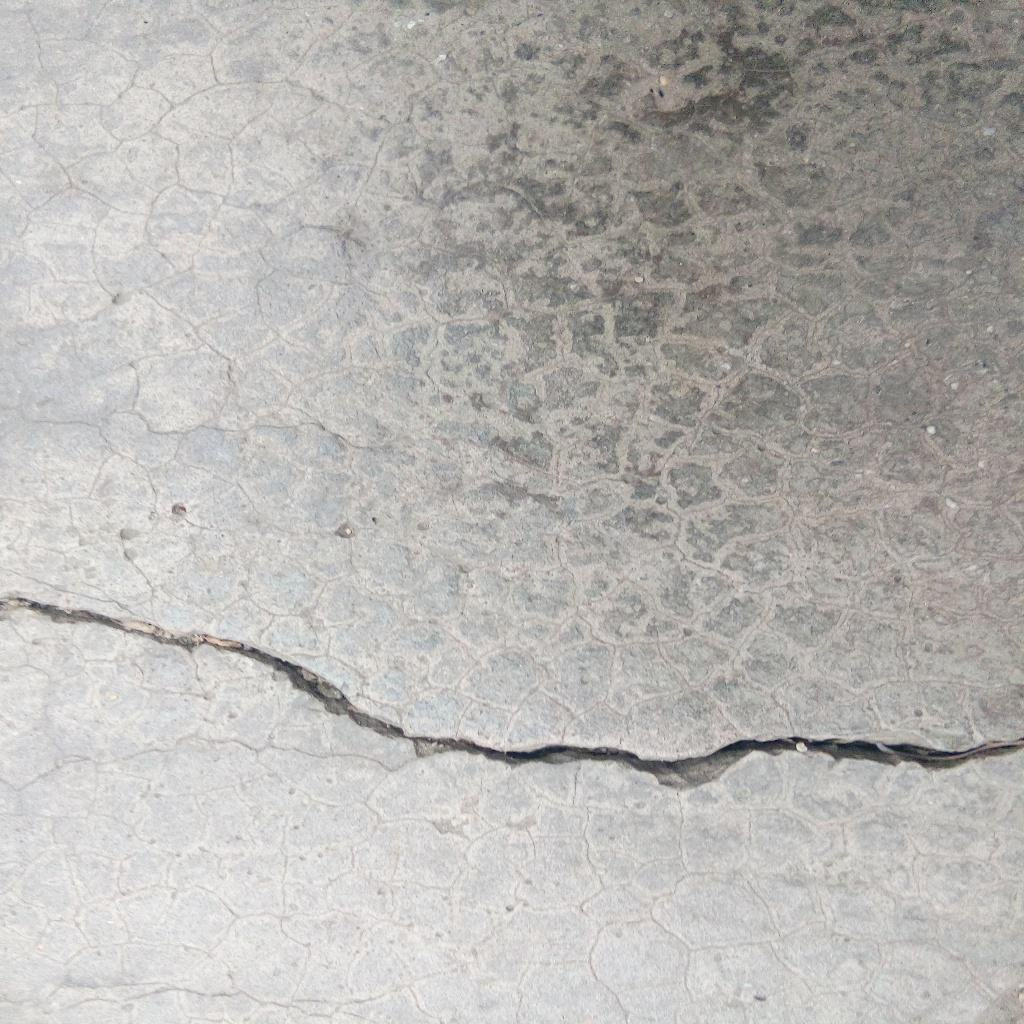Crack: (1, 593, 1024, 794)
